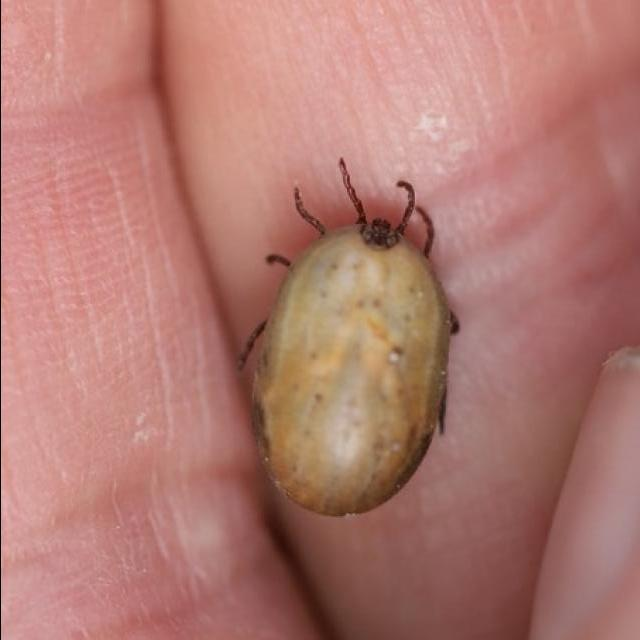Dermacentor Reticulatus-F-Fed: (236, 157, 458, 516)
